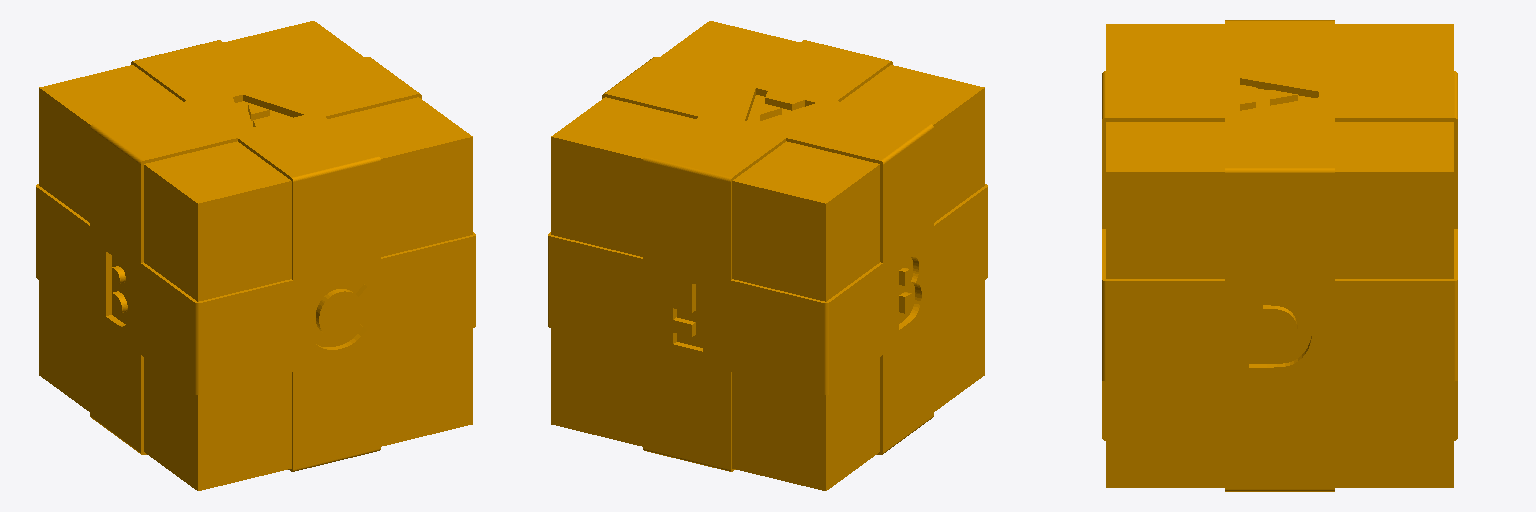
URDF robot description (object):
<?xml version="1.0"?>
<robot name="object">
  <link name="object">
    <visual>
      <origin xyz="0 0 0"/>
      <geometry>
        <mesh filename="meshes/large_cube.obj" scale="1 1 1"/>
      </geometry>
    </visual>
    <collision>
      <origin xyz="0 0 0"/>
      <geometry>
        <box size="0.09 0.09 0.09"/>
      </geometry>
    </collision>
    <inertial>
      <mass value="0.723168"/>
      <density value="992.0"/>
      <inertia ixx="0.0039051072" ixy="0.0" ixz="0.0" iyy="0.0039051072" iyz="0.0" izz="0.0039051072"/>
    </inertial>
  </link>
</robot>

--- What the picture shows (computed from the rendered views, not written in the file) ---
Views: 3 orthographic renders of the robot side by side, from view 1: azimuth 30°, elevation 25°; view 2: azimuth 150°, elevation 25°; view 3: azimuth 270°, elevation 25°.
Model object with 1 links and 0 joints (none), rooted at object, posed all joints at 0.
Links seen in each view (by area): view 1: object; view 2: object; view 3: object.
Boxes of the visible links, <box> form: object: <box>36,21,475,490</box>; object: <box>548,21,987,490</box>; object: <box>1102,20,1457,491</box>.
Size in the robot's own frame: 0.09 by 0.09 by 0.09 metres.
Meshes: 1 distinct files referenced, 1 mesh visuals loaded (1 OBJ).
